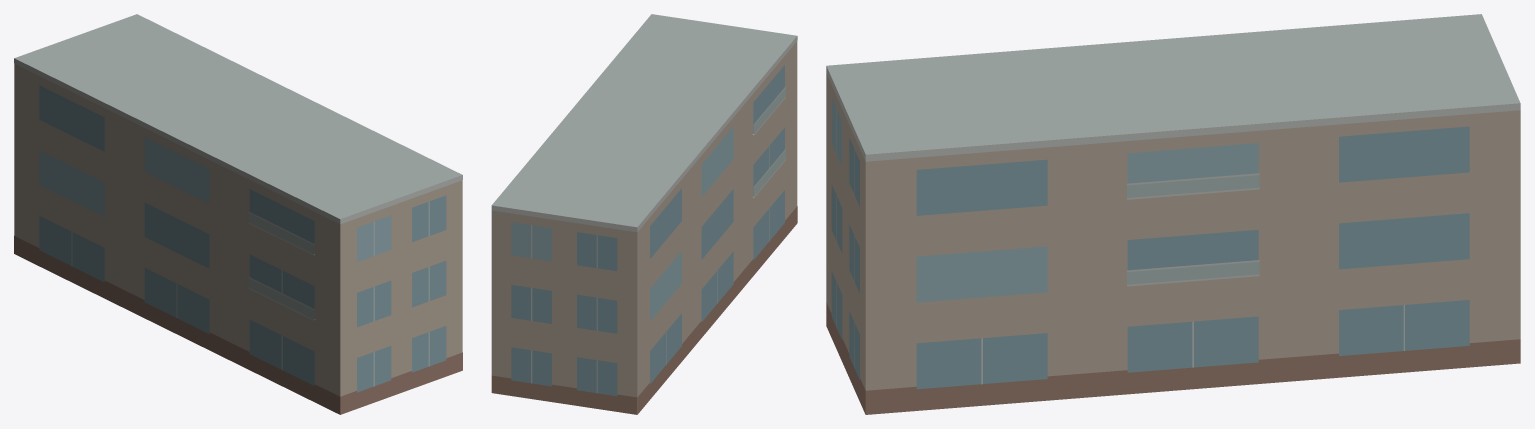
File: survey-upis-32708131.glb
3 views of the same model, side by side, from view 1: azimuth 30°, elevation 25°; view 2: azimuth 150°, elevation 25°; view 3: azimuth 270°, elevation 25° (orthographic). The views are drawn at different scales.
Parts seen in each view (by area): view 1: survey-upis-32708131.tmp; view 2: survey-upis-32708131.tmp; view 3: survey-upis-32708131.tmp.
Part boxes in pixels (bbox=[...]): survey-upis-32708131.tmp: bbox=[14, 14, 462, 414]; survey-upis-32708131.tmp: bbox=[491, 14, 797, 414]; survey-upis-32708131.tmp: bbox=[826, 14, 1520, 414].
Size of the model in its own units: 10.63 by 9.15 by 22.14.
